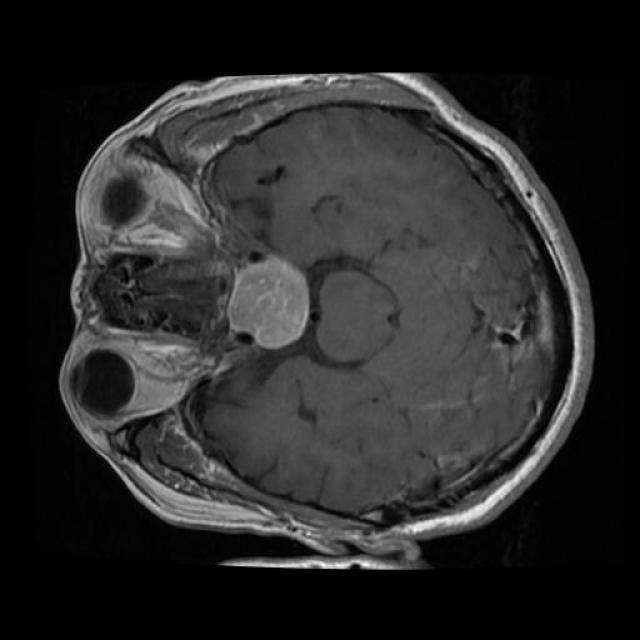Pituitary: (226, 251, 310, 350)
